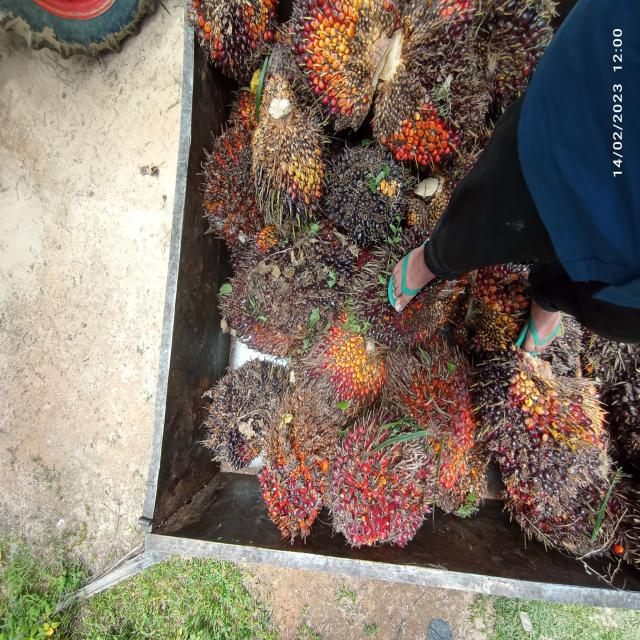fraksi 00: (410, 0, 553, 144), (313, 135, 410, 259), (250, 89, 326, 239), (201, 350, 294, 472), (278, 226, 356, 336)
fraksi 1: (479, 354, 618, 550), (281, 0, 402, 135), (215, 256, 307, 370), (255, 455, 331, 561)
fraksi 3: (324, 412, 429, 554)
fraksi 4: (295, 300, 390, 423), (376, 62, 456, 204), (198, 114, 282, 241), (252, 382, 347, 478), (374, 330, 454, 437)
